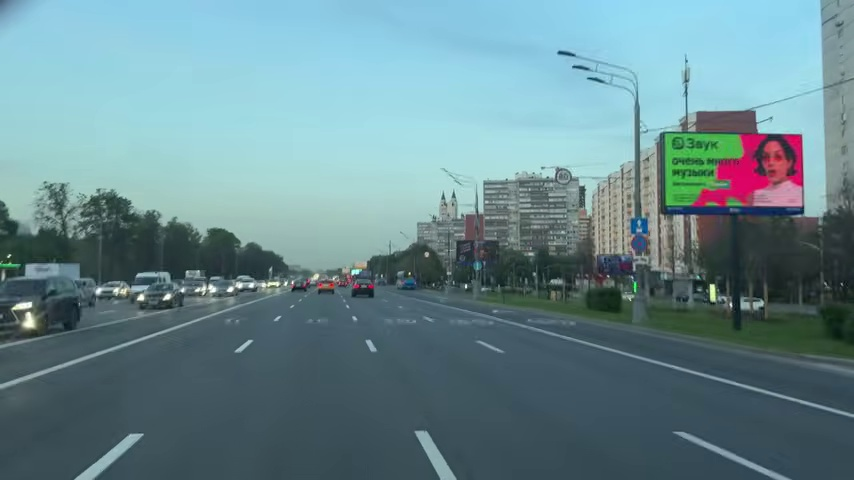apagada: (554, 45, 596, 84), (104, 430, 145, 467), (554, 46, 581, 77), (554, 46, 578, 66)
